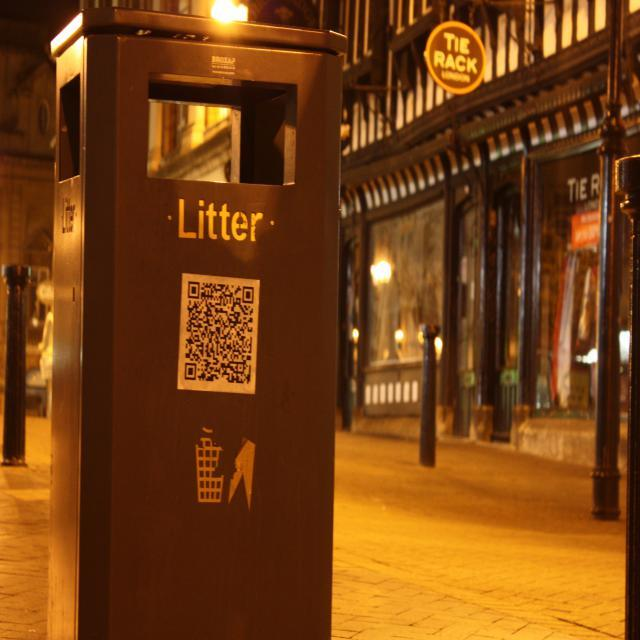qrcode: (186, 282, 255, 385)
